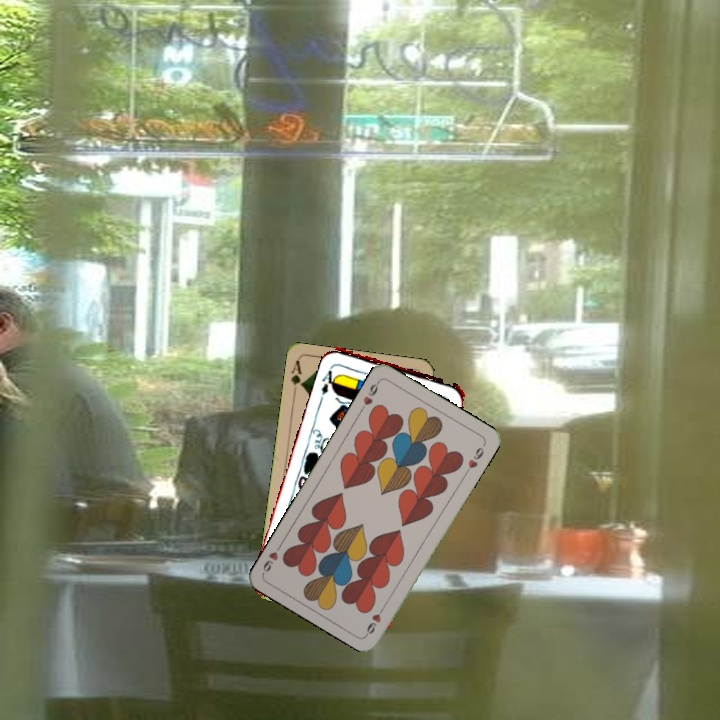EA: (316, 361, 342, 400)
GA: (287, 357, 306, 398)
H9: (356, 377, 382, 414), (362, 600, 388, 637)
